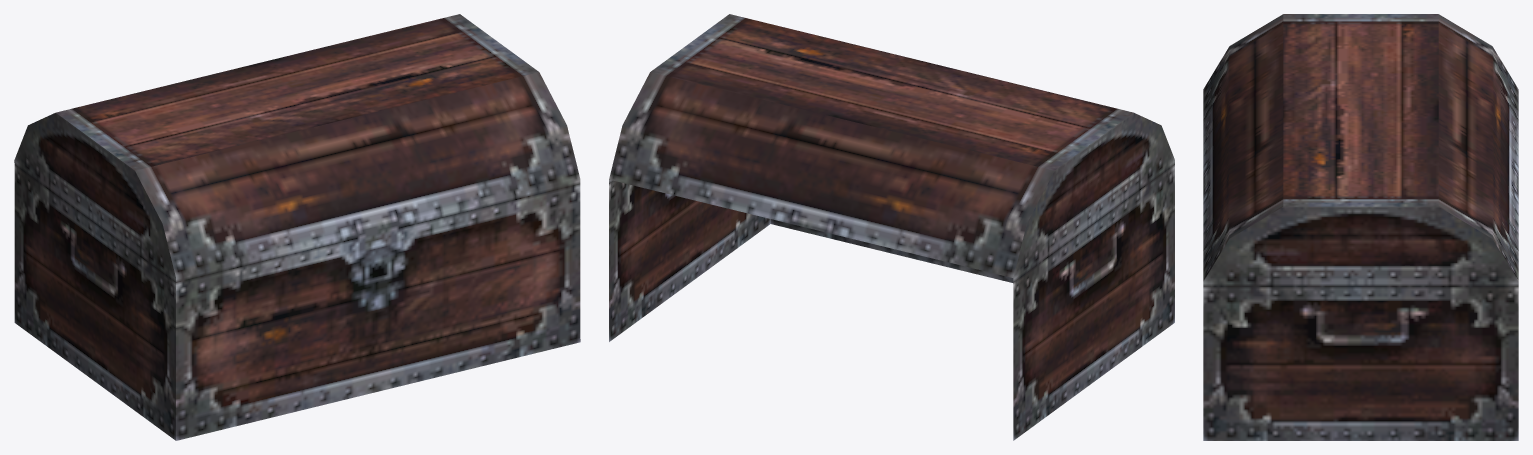
The model's file is ct_chest3.glb.
3 renders of one model, left to right at view 1: azimuth 30°, elevation 25°; view 2: azimuth 150°, elevation 25°; view 3: azimuth 270°, elevation 25°, orthographic. The views are drawn at different scales.
Parts seen in each view (by area): view 1: ct_chest3-col; view 2: ct_chest3-col; view 3: ct_chest3-col.
Part boxes in pixels (bbox=[...]): ct_chest3-col: bbox=[14, 14, 580, 440]; ct_chest3-col: bbox=[609, 14, 1174, 440]; ct_chest3-col: bbox=[1203, 14, 1518, 440].
Bounding box in the file's own units: 1.19 × 0.6764 × 0.8253.
1 material, 1 textured.
